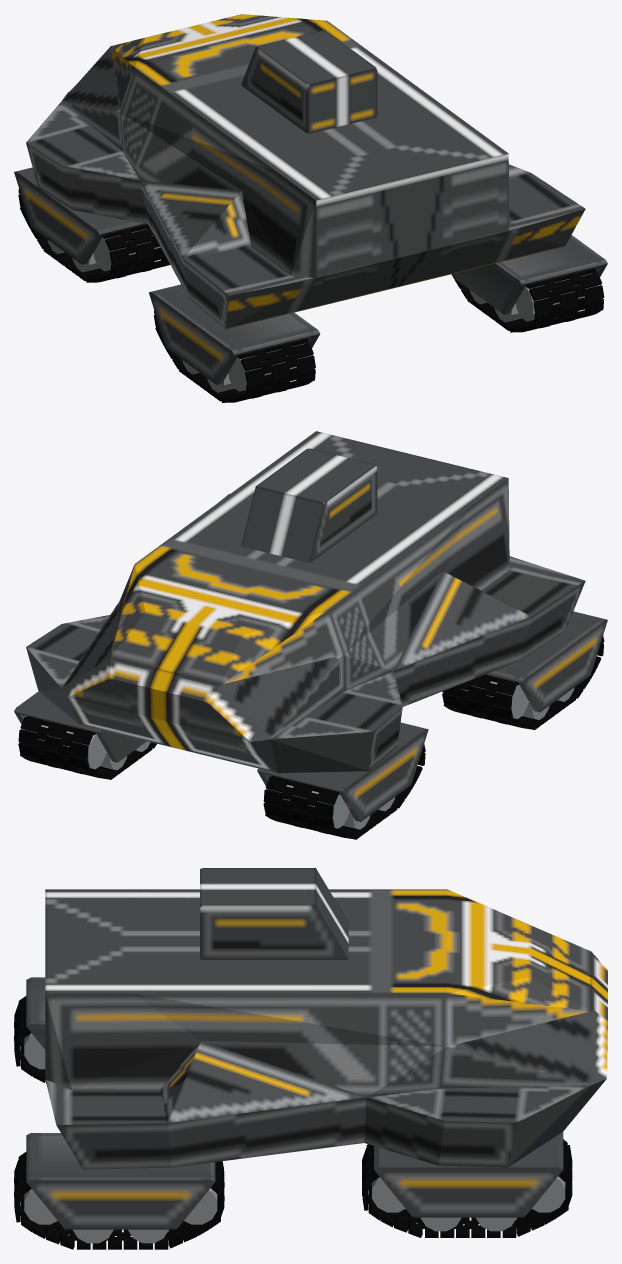
The model's file is MainBase-lvl-2.fbx.
3 renders of one model, top to bottom at view 1: azimuth 30°, elevation 25°; view 2: azimuth 150°, elevation 25°; view 3: azimuth 270°, elevation 25°, orthographic. The views are drawn at different scales.
Parts seen in each view (by area): view 1: cube_selection, cube_8, cube_5, cube_4, cube_7, cube_3, cube, cube_2, cylinder_1, cylinder_5; view 2: cube_selection, cube_8, cube_5, cube_7, cube_2, cube_1, cube_3, cube_6, cylinder_12; view 3: cube_selection, cube_8, cube_4, cube_6, cube_1, cube, cube_5, cube_3, cylinder, cylinder_12, cylinder_1, cylinder_13 (+1 smaller).
Boxes of the visible parts, <box> form: cube_selection: <box>26,14,585,328</box>; cube_8: <box>241,30,377,133</box>; cube_5: <box>149,284,320,384</box>; cube_4: <box>452,235,607,314</box>; cube_7: <box>14,167,146,264</box>; cube_3: <box>154,310,315,402</box>; cube: <box>451,268,604,332</box>; cube_2: <box>18,189,170,282</box>; cylinder_1: <box>515,273,596,321</box>; cylinder_5: <box>228,343,309,391</box>; cube_selection: <box>26,431,585,773</box>; cube_8: <box>241,448,377,562</box>; cube_5: <box>485,611,607,712</box>; cube_7: <box>257,722,428,821</box>; cube_2: <box>263,744,425,839</box>; cube_1: <box>18,716,156,779</box>; cube_3: <box>442,635,604,729</box>; cube_6: <box>14,691,146,762</box>; cylinder_12: <box>26,725,106,769</box>; cube_selection: <box>45,889,607,1169</box>; cube_8: <box>200,868,348,959</box>; cube_4: <box>26,1133,215,1229</box>; cube_6: <box>374,1132,563,1217</box>; cube_1: <box>362,1139,572,1237</box>; cube: <box>14,1152,224,1249</box>; cube_5: <box>26,977,45,1049</box>; cube_3: <box>14,996,46,1083</box>; cylinder: <box>184,1188,217,1224</box>; cylinder_12: <box>532,1176,565,1212</box>; cylinder_1: <box>24,1189,57,1224</box>; cylinder_13: <box>372,1177,405,1212</box>.
Size of the model in its own units: 541 by 334 by 672.
4 materials, 4 textured.
